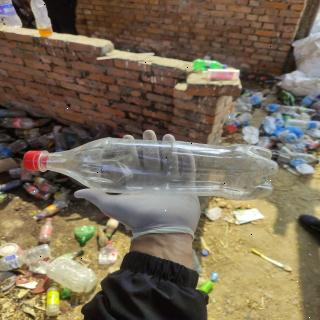Plastic-bottle: (20, 136, 282, 205)
